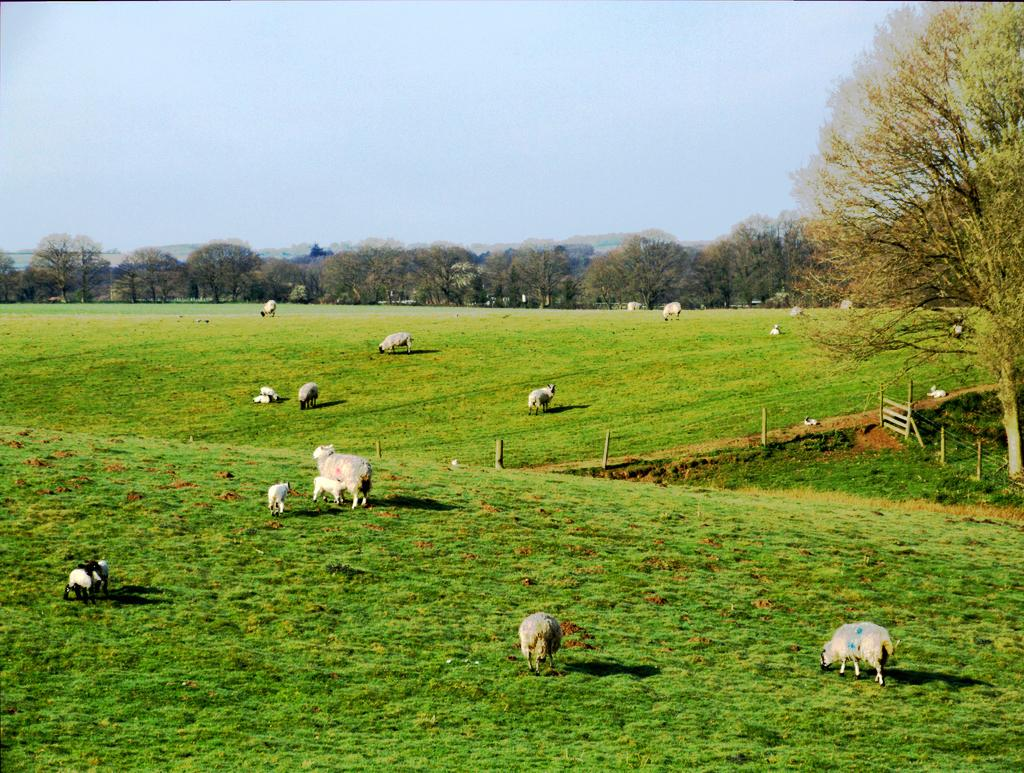Sheep: (820, 618, 892, 684), (313, 440, 372, 508), (516, 612, 560, 679), (312, 474, 350, 507), (62, 566, 95, 603), (527, 384, 558, 416), (270, 479, 296, 515), (83, 561, 110, 593), (380, 332, 414, 355), (298, 381, 318, 409), (663, 303, 680, 323), (260, 300, 276, 317), (260, 388, 280, 401), (928, 386, 948, 398), (254, 392, 270, 401), (806, 416, 819, 426), (772, 324, 782, 334), (842, 298, 852, 308), (955, 324, 965, 333), (791, 306, 802, 314)
